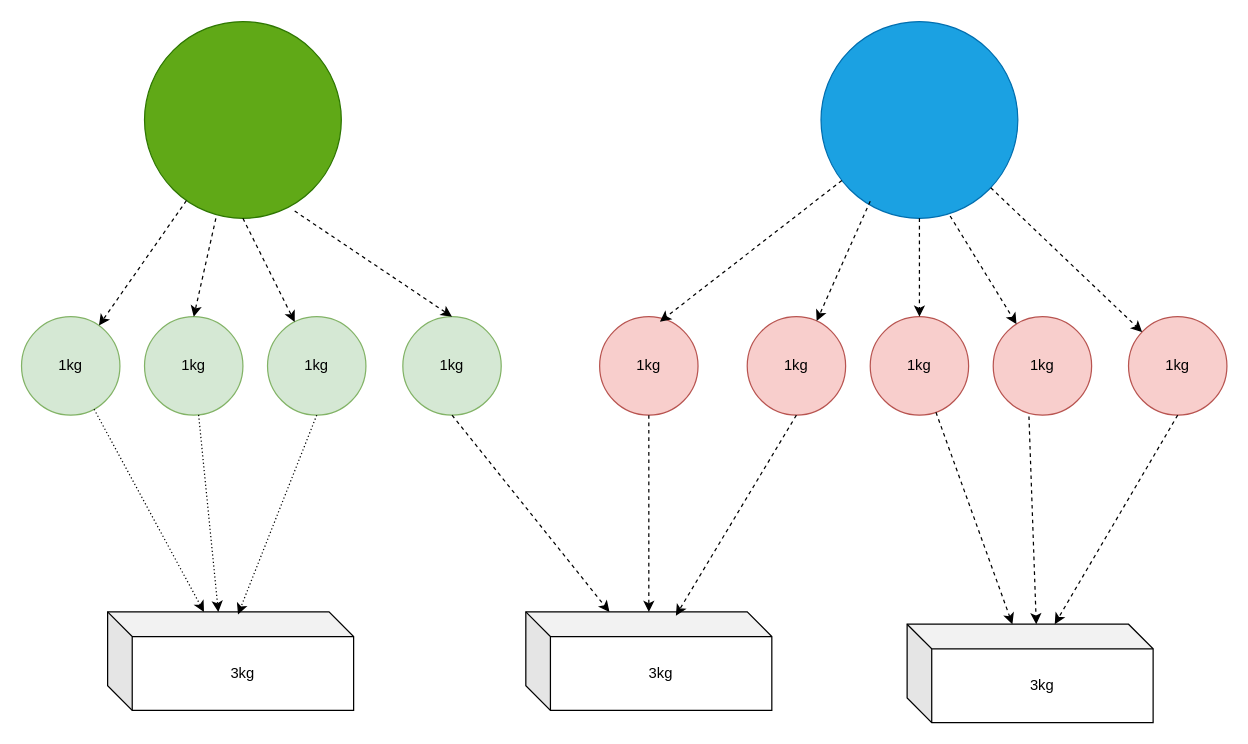
Some shapes in this 1248 by 744 pixel diagram are drawn without their labels. Each missing label, with the centre of its shape:
"4kg" belongs at point (242, 119).
"5kg" belongs at point (919, 119).
